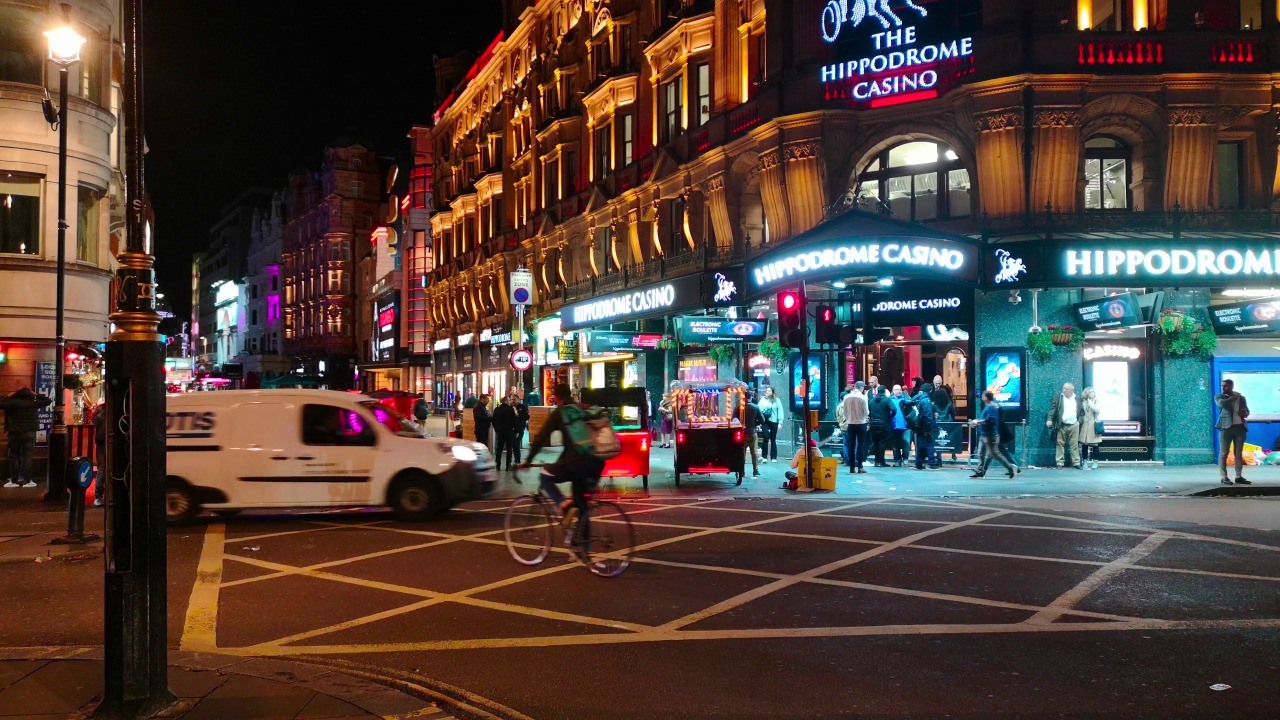car: (158, 400, 496, 518), (686, 387, 748, 489), (610, 394, 656, 489)
person: (552, 391, 608, 560), (1207, 374, 1259, 484), (1, 391, 40, 493), (1000, 405, 1031, 483), (789, 434, 827, 494), (1052, 379, 1076, 468), (913, 388, 935, 467), (845, 383, 863, 477), (873, 393, 895, 468), (979, 388, 998, 474), (894, 379, 910, 468), (765, 391, 782, 464), (747, 393, 760, 479), (1089, 392, 1101, 473), (497, 398, 510, 464), (474, 387, 488, 433), (516, 397, 527, 442), (661, 399, 670, 451), (419, 393, 427, 418), (933, 375, 943, 388), (872, 377, 881, 386)
